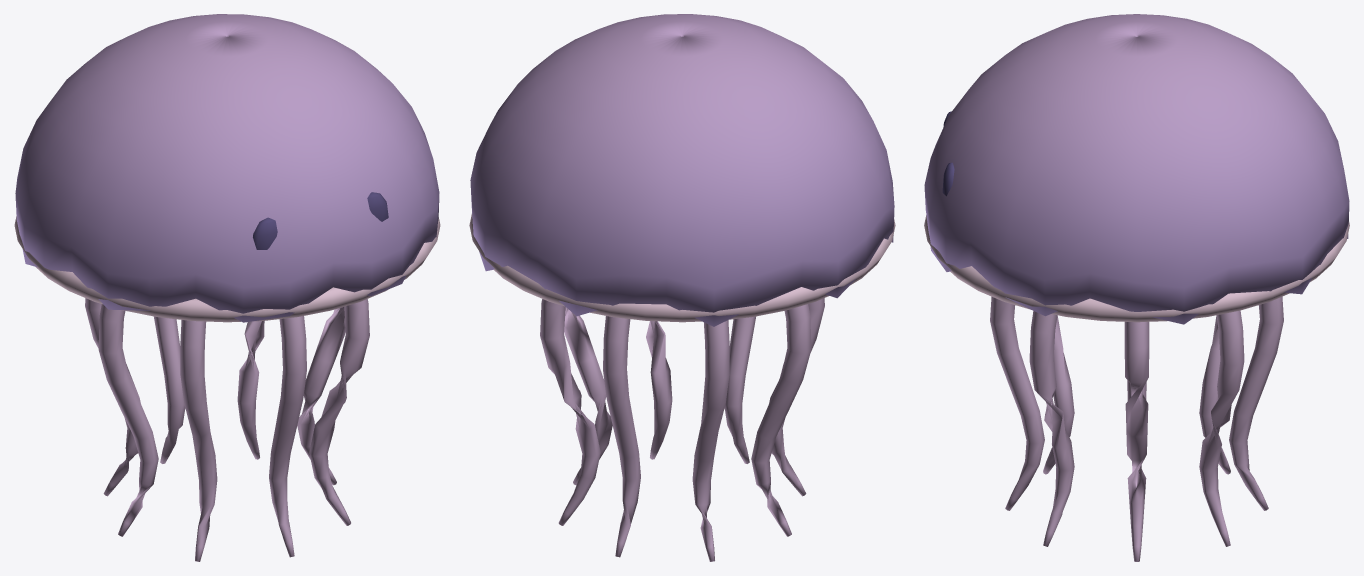
The model's file is jellyfish.glb.
3 renders of one model, left to right at view 1: azimuth 30°, elevation 25°; view 2: azimuth 150°, elevation 25°; view 3: azimuth 270°, elevation 25°, orthographic.
Visible parts, largest first — view 1: food_jellyfish_painted_mesh; view 2: food_jellyfish_painted_mesh; view 3: food_jellyfish_painted_mesh.
Part boxes in pixels (box(x1,y1,x2,y2)): food_jellyfish_painted_mesh: box(14, 14, 440, 561); food_jellyfish_painted_mesh: box(469, 14, 895, 561); food_jellyfish_painted_mesh: box(924, 14, 1349, 561).
Size of the model in its own units: 1.06 by 1.3 by 1.06.
